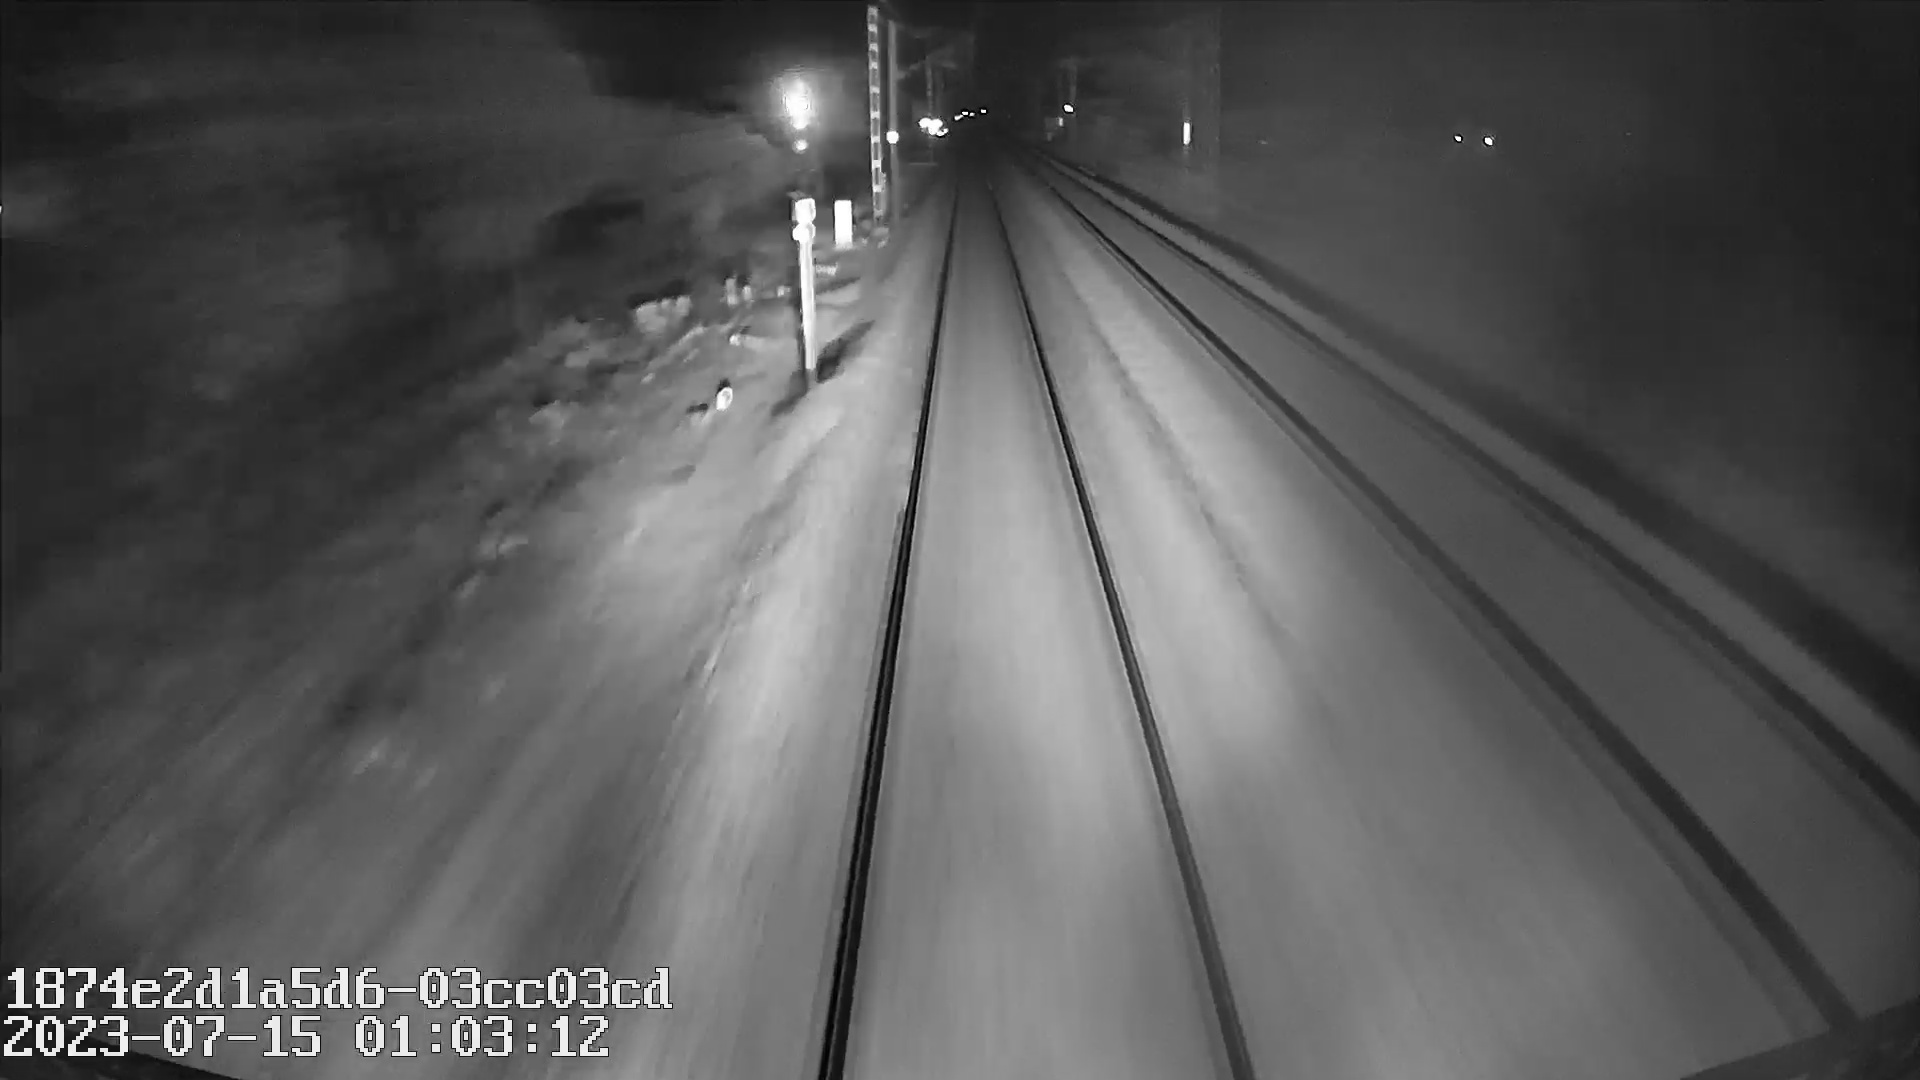track1: (837, 200, 1245, 1058)
track2: (1056, 181, 1909, 940)
